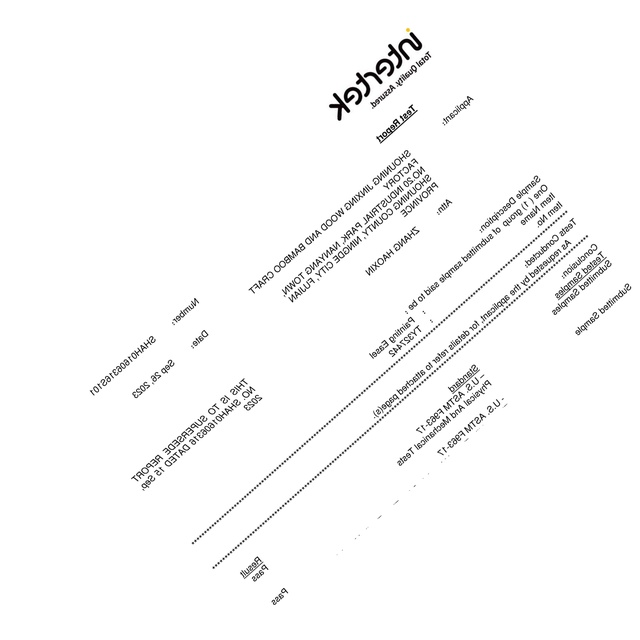intertek: (327, 25, 426, 121)
